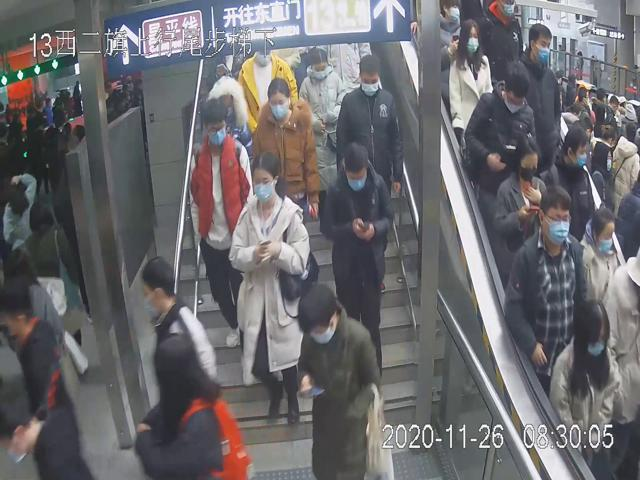person: (227, 149, 318, 428), (320, 137, 395, 387), (293, 282, 385, 480), (504, 184, 588, 384), (190, 97, 255, 352), (464, 56, 540, 218), (251, 74, 319, 234), (335, 52, 403, 202), (295, 47, 348, 219), (493, 133, 549, 273), (516, 19, 562, 168), (448, 17, 494, 152)
